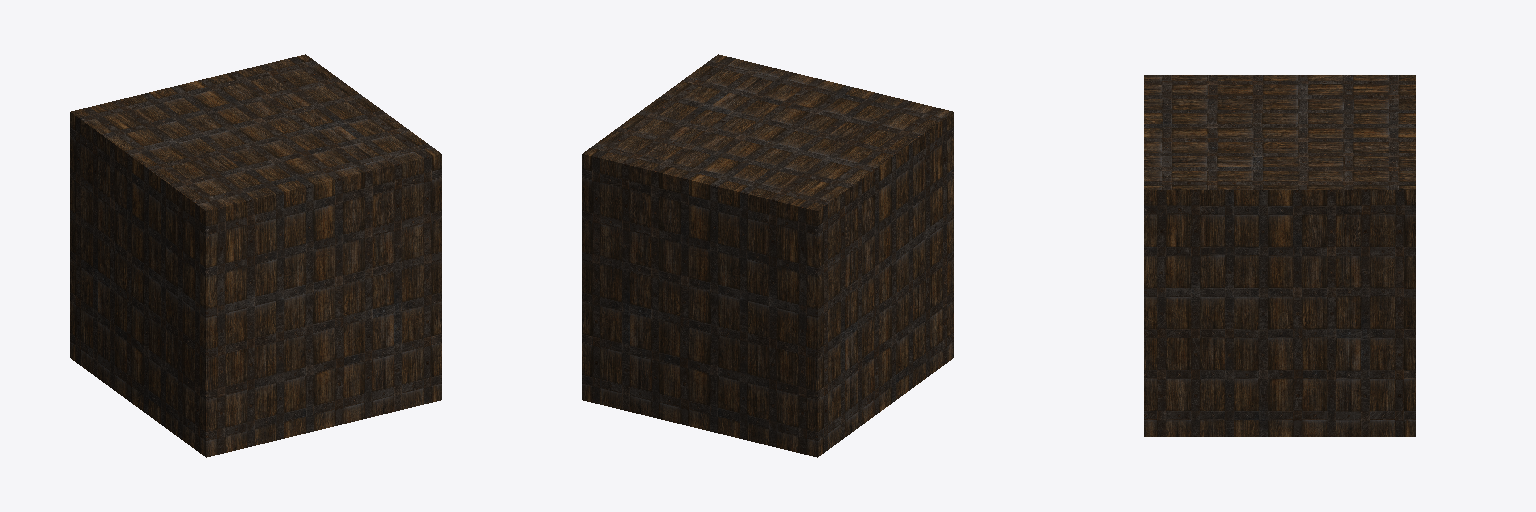
The picture shows the model from 3 angles: view 1: azimuth 30°, elevation 25°; view 2: azimuth 150°, elevation 25°; view 3: azimuth 270°, elevation 25°; orthographic projection.
Visible parts, largest first — view 1: Cube; view 2: Cube; view 3: Cube.
Boxes of the visible parts, x1=… form: Cube: x1=70, y1=54, x2=441, y2=457; Cube: x1=582, y1=54, x2=953, y2=457; Cube: x1=1144, y1=75, x2=1415, y2=436.
Size of the model in its own units: 2 by 2 by 2.
Materials: 1 (1 with a texture image).